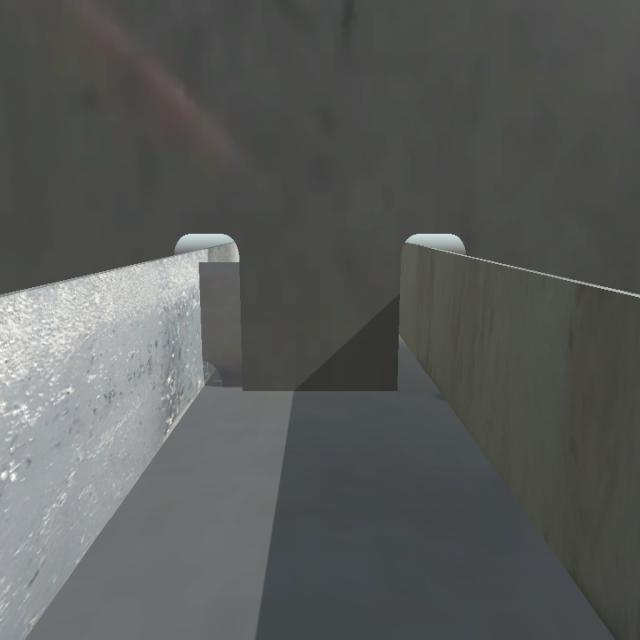fillet_hole: (199, 360, 226, 389)
fillet_yong_jeop_jang: (223, 377, 400, 392)
longi_yong_jeop_jang: (192, 262, 206, 386)
plate_behind: (197, 259, 244, 386)
